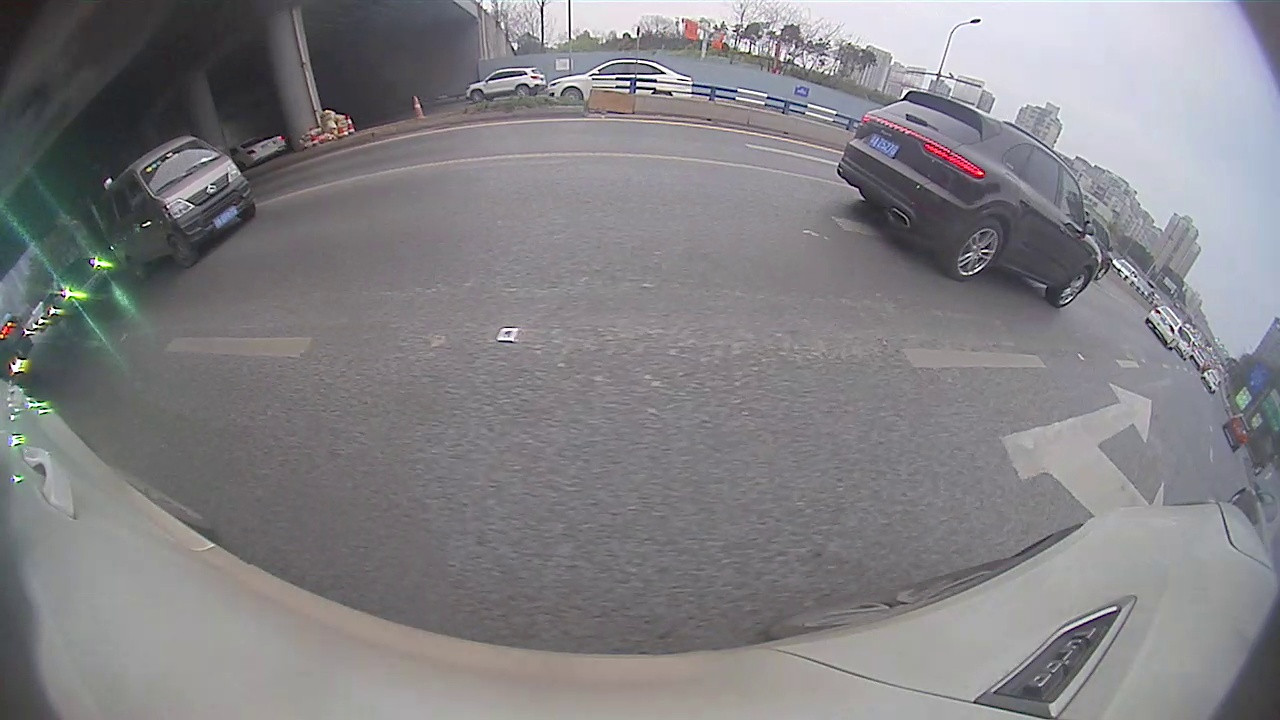car: (835, 87, 1101, 309), (106, 132, 258, 280), (463, 68, 547, 103), (1147, 303, 1185, 353)
front: (1048, 268, 1093, 309), (169, 234, 199, 268), (558, 86, 585, 103), (471, 89, 487, 103)
rear: (949, 221, 1006, 281), (518, 83, 531, 97)
